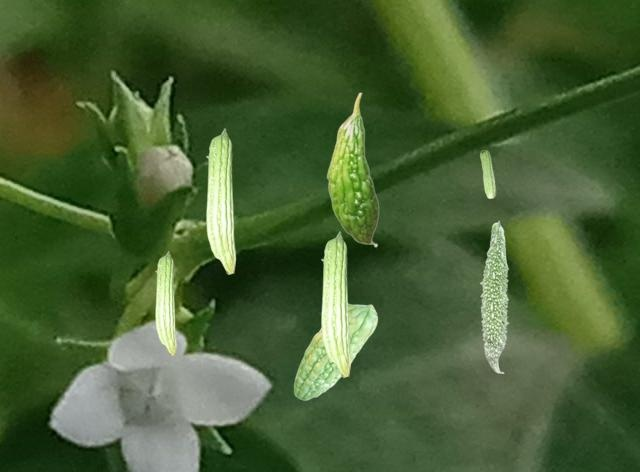ampalaya: (293, 303, 378, 401), (326, 92, 379, 247), (479, 220, 509, 374), (320, 231, 351, 378), (205, 128, 236, 275), (155, 250, 176, 356), (479, 149, 496, 199)
